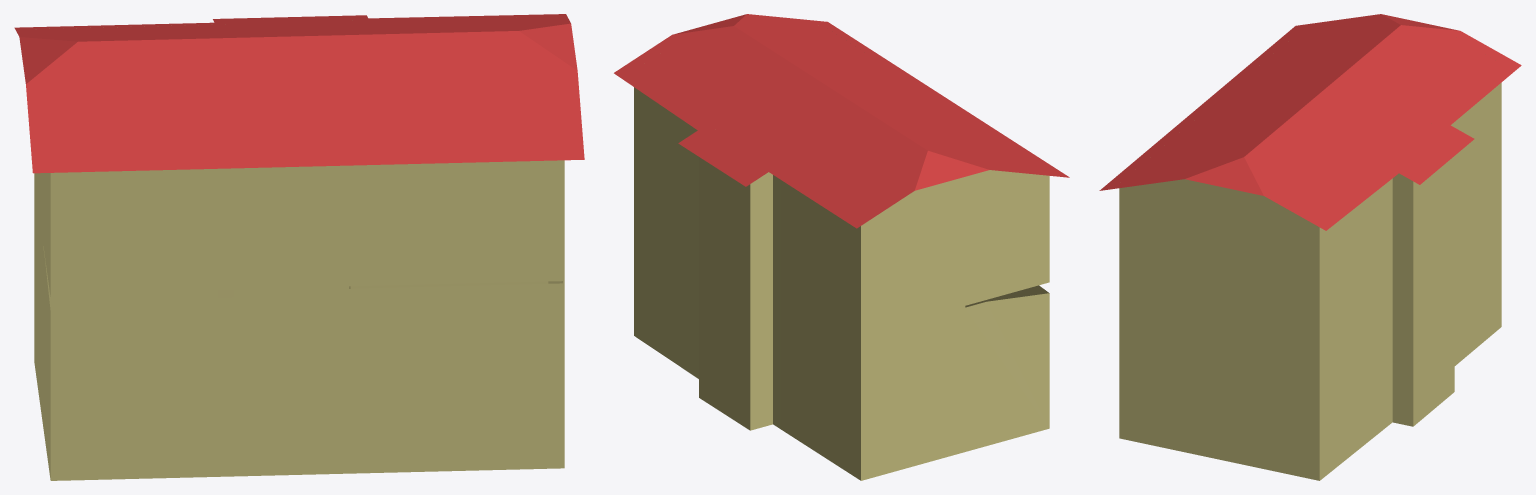
The picture shows the model from 3 angles, left to right: view 1: azimuth 30°, elevation 25°; view 2: azimuth 150°, elevation 25°; view 3: azimuth 270°, elevation 25°; orthographic projection. The views are drawn at different scales.
Bounding box in the file's own units: 25.33 × 21.2 × 16.28.
